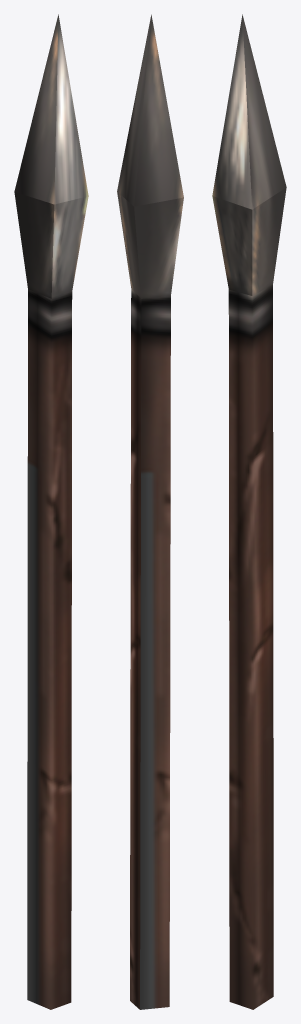
The model's file is Spear.FBX.
3 views of the same model, side by side, from view 1: azimuth 90°, elevation 25°; view 2: azimuth 150°, elevation 25°; view 3: azimuth 270°, elevation 25° (orthographic).
Parts seen in each view (by area): view 1: Object002; view 2: Object002; view 3: Object002.
Boxes of the visible parts, left/top/right/bottom form: Object002: left=14, top=14, right=88, bottom=1009; Object002: left=117, top=14, right=183, bottom=1009; Object002: left=212, top=14, right=286, bottom=1009.
Bounding box in the file's own units: 0.2203 × 3.24 × 0.2206.
